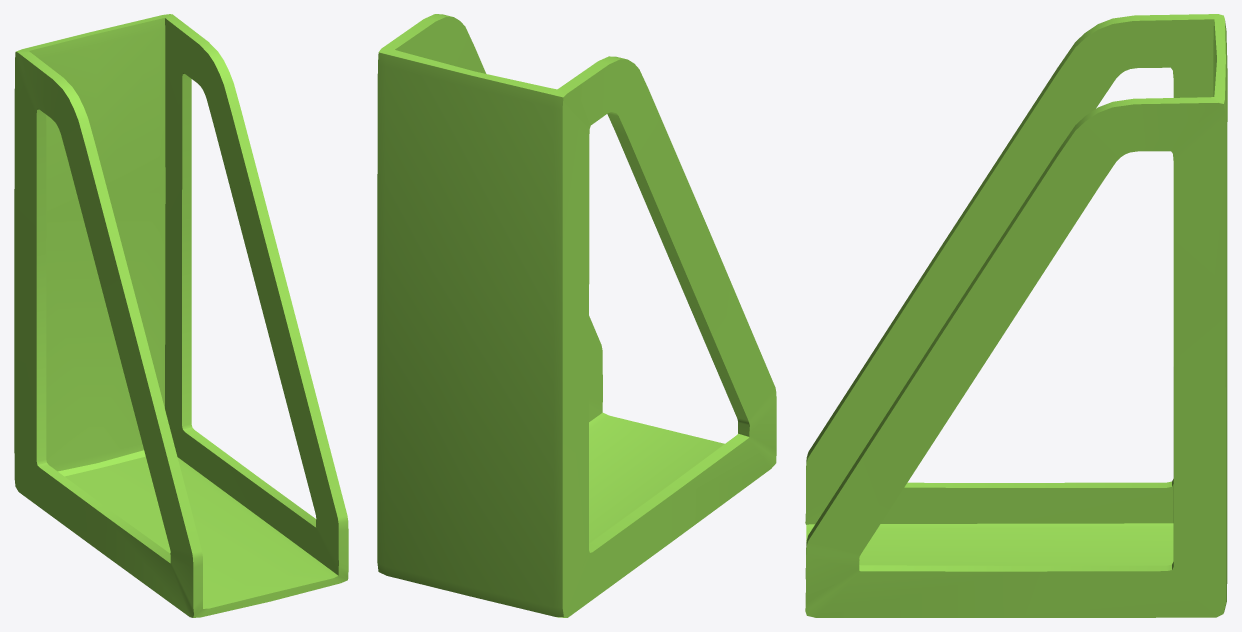
File: file_yellow greem.fbx
3 views of the same model, side by side, from view 1: azimuth 30°, elevation 25°; view 2: azimuth 150°, elevation 25°; view 3: azimuth 270°, elevation 25° (orthographic). The views are drawn at different scales.
Visible parts, largest first — view 1: folder stand; view 2: folder stand; view 3: folder stand.
Boxes of the visible parts, x1,y1,x2,y2 form: folder stand: (14,14,348,617); folder stand: (377,14,776,617); folder stand: (805,14,1227,617).
Size of the model in its own units: 1369 by 3706 by 2741.
